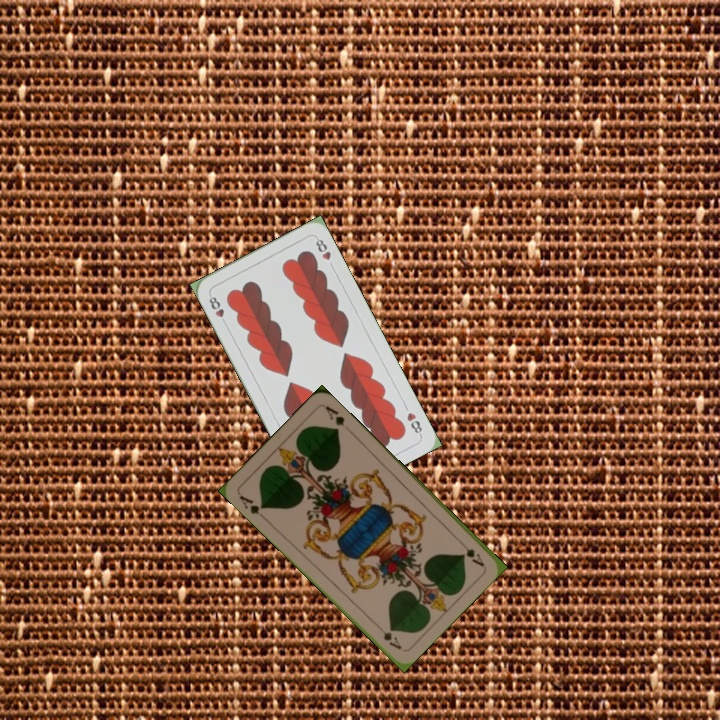GA: (455, 536, 487, 569), (235, 491, 268, 522)
H8: (205, 290, 229, 328), (403, 409, 425, 438)
